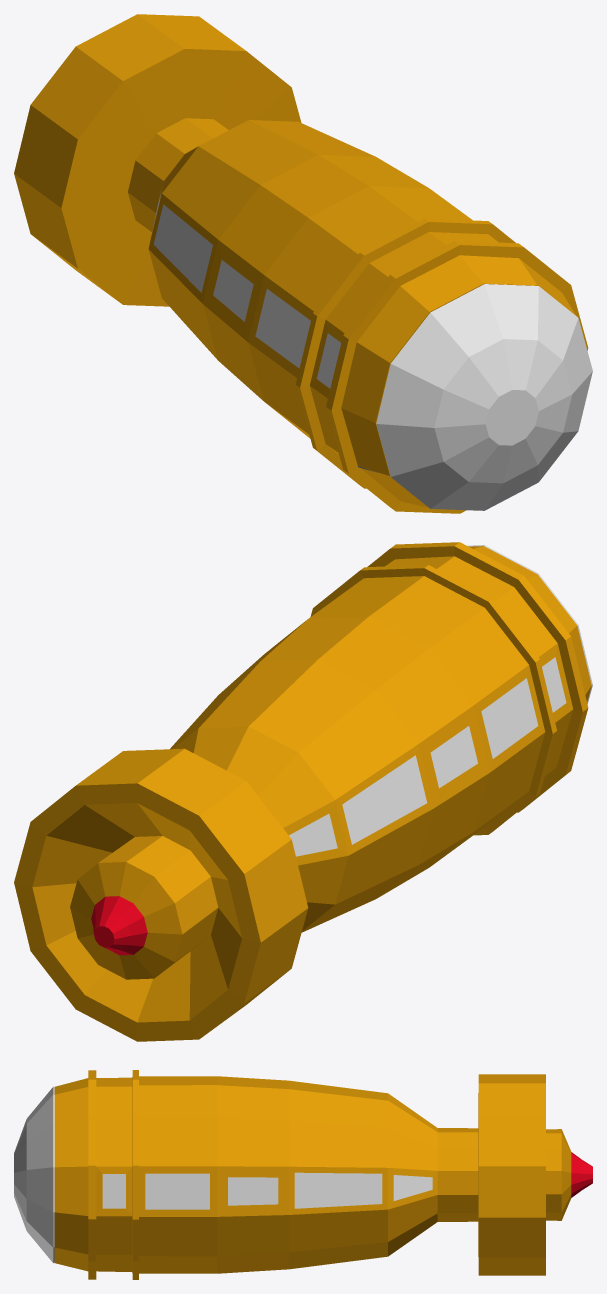
The model's file is NewSubmarine.fbx.
3 renders of one model, top to bottom at view 1: azimuth 30°, elevation 25°; view 2: azimuth 150°, elevation 25°; view 3: azimuth 270°, elevation 25°, orthographic. The views are drawn at different scales.
Visible parts, largest first — view 1: body, front glass, breakingWall, side glasses; view 2: body, breakingWall, side glasses, tale; view 3: body, breakingWall, front glass, side glasses, tale.
Part boxes in pixels (left/top/right/bottom): body: left=14, top=14, right=588, bottom=513; front glass: left=376, top=284, right=592, bottom=510; breakingWall: left=153, top=204, right=310, bottom=368; side glasses: left=152, top=193, right=341, bottom=388; body: left=14, top=542, right=591, bottom=1041; breakingWall: left=342, top=678, right=538, bottom=844; side glasses: left=289, top=657, right=566, bottom=856; tale: left=91, top=896, right=147, bottom=955; body: left=54, top=1070, right=571, bottom=1279; breakingWall: left=145, top=1172, right=382, bottom=1209; front glass: left=14, top=1086, right=54, bottom=1263; side glasses: left=102, top=1174, right=432, bottom=1208; tale: left=571, top=1152, right=592, bottom=1197.
Size of the model in its own units: 225 by 617 by 225.
